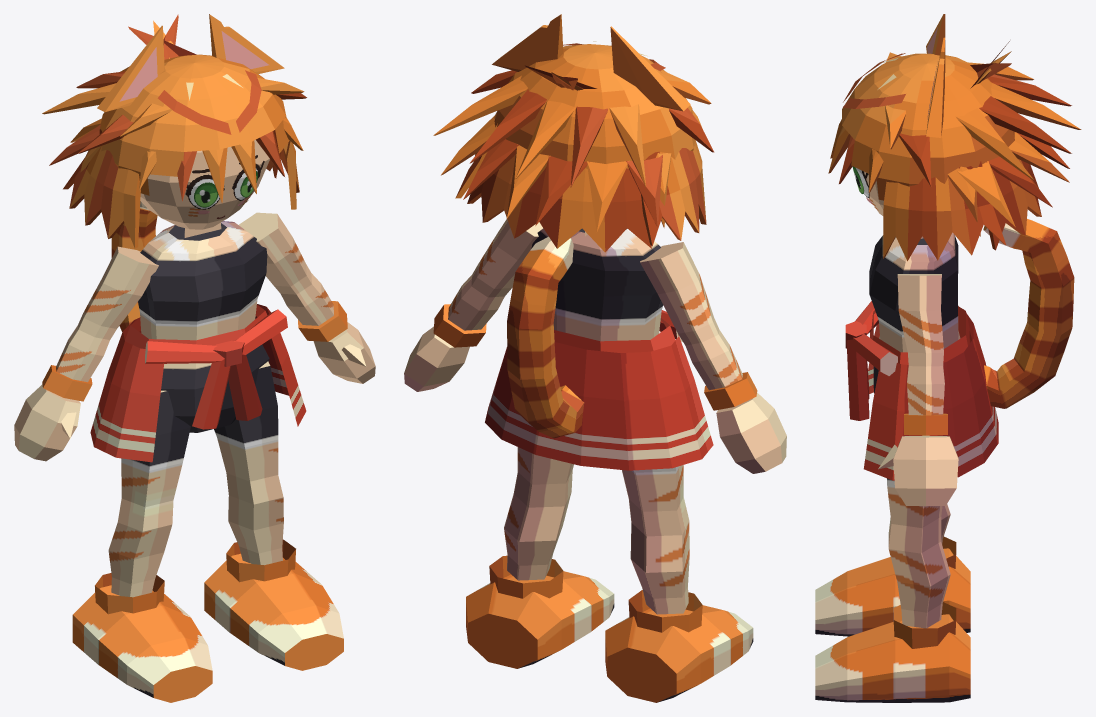
Rendered from lira_para_mixamo.fbx.
The picture shows the model from 3 angles, left to right: view 1: azimuth 30°, elevation 25°; view 2: azimuth 150°, elevation 25°; view 3: azimuth 270°, elevation 25°; orthographic projection. The views are drawn at different scales.
Visible parts, largest first — view 1: Lira; view 2: Lira; view 3: Lira.
Boxes of the visible parts, left/top/right/bottom form: Lira: left=14, top=14, right=375, bottom=702; Lira: left=404, top=14, right=786, bottom=702; Lira: left=815, top=14, right=1081, bottom=702.
Bounding box in the file's own units: 98.5 × 165 × 62.7.
4 materials, 4 textured.
